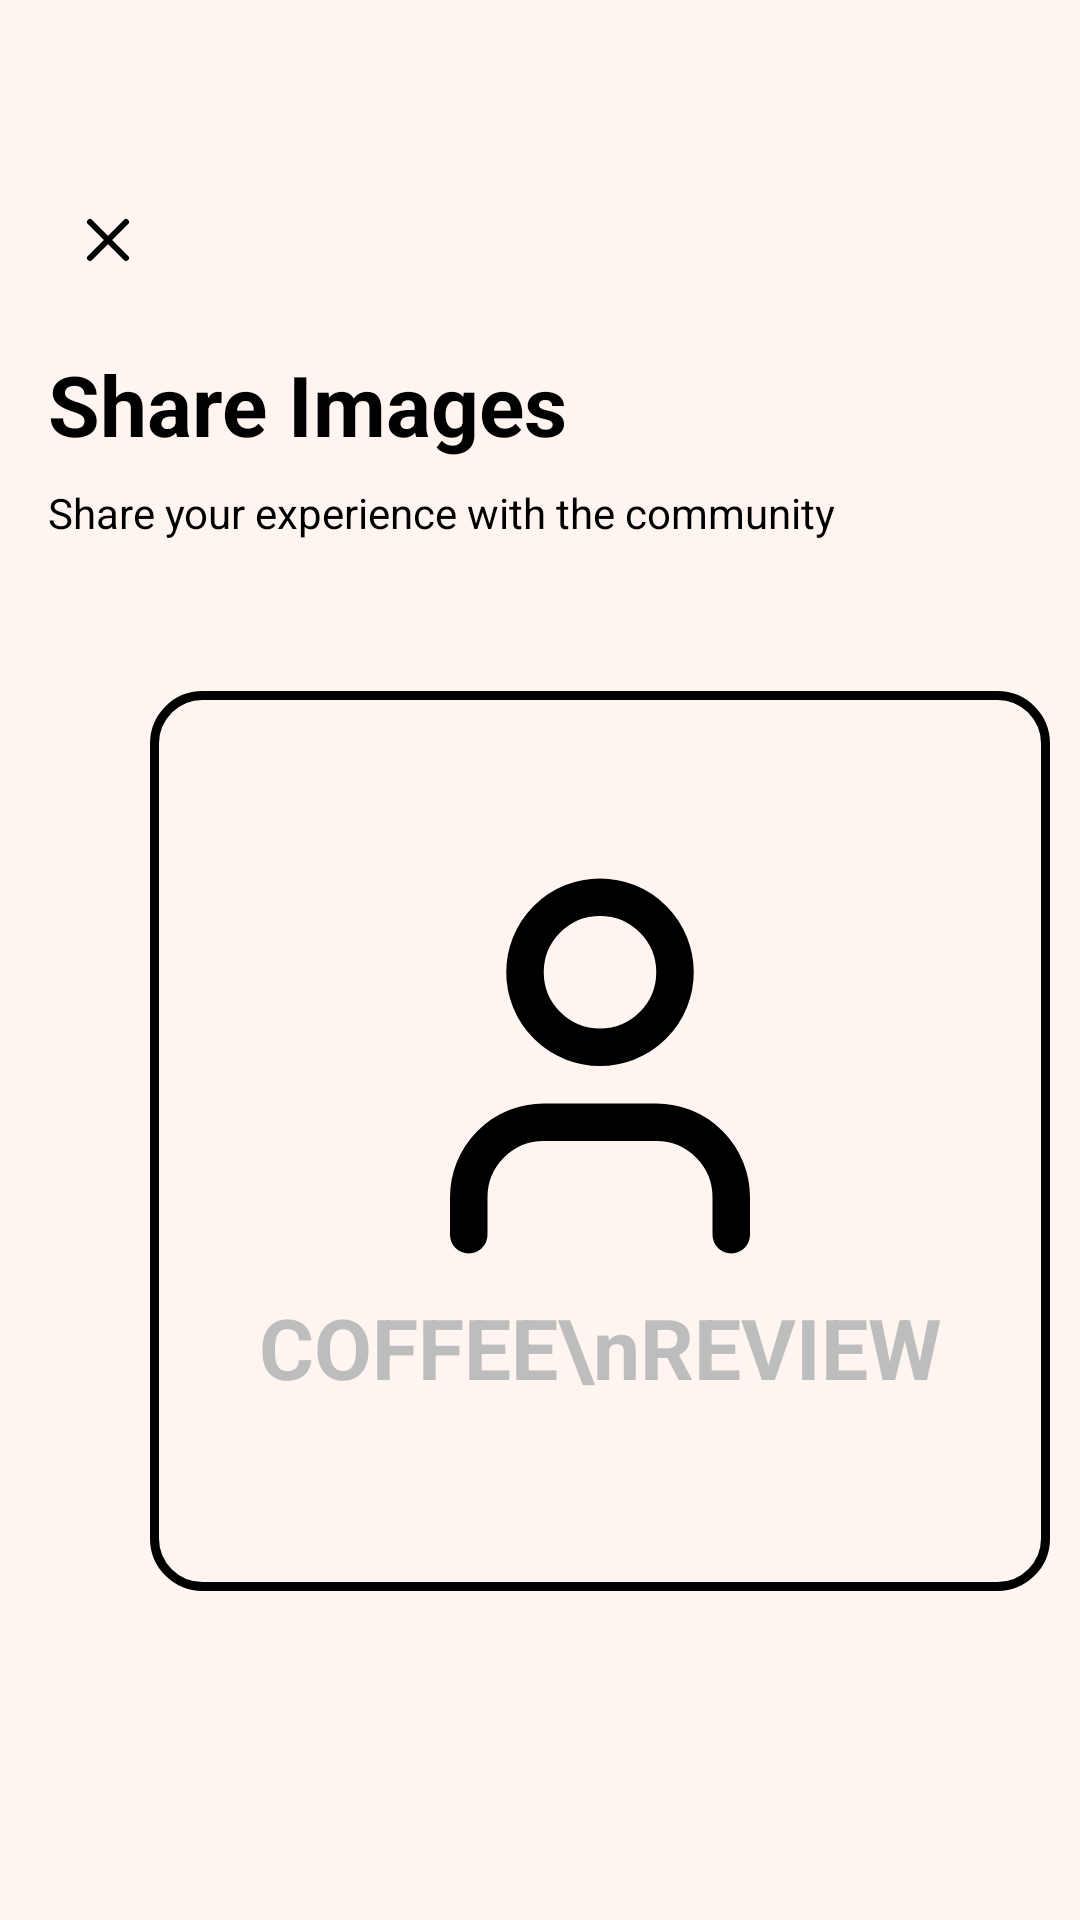

Where icons sit on this 1080 × 1920 app screen, as BBox(x1, y1, x2, y2):
Close: BBox(87, 218, 129, 261)
